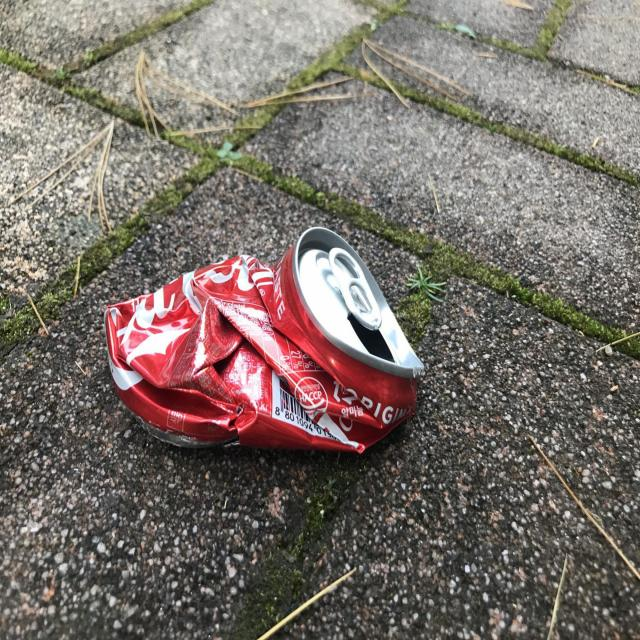can: (104, 227, 424, 453)
